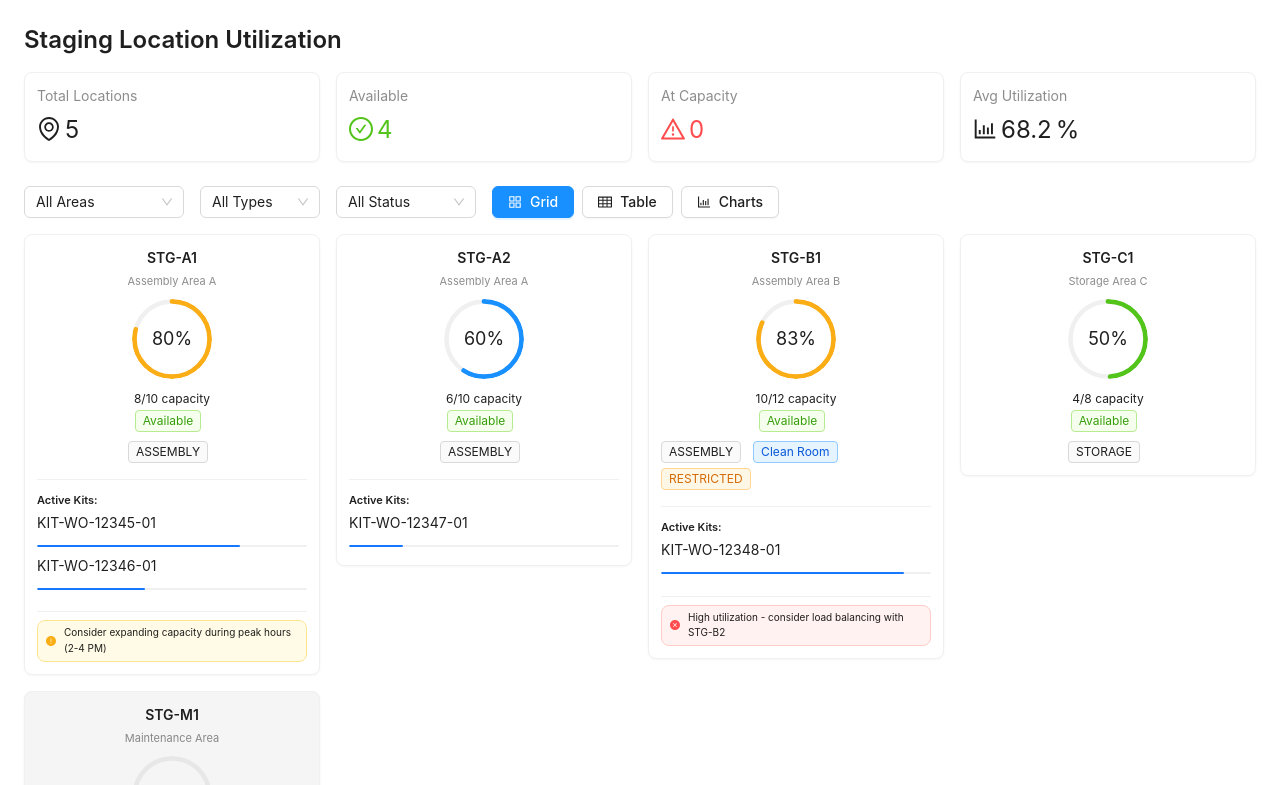
Test: StagingLocationUtilization › Table View › shows utilization with progress bars
The width and height of the screenshot is (1280, 785).
Click the button "Table": click(627, 202) left=582, top=186, right=673, bottom=218
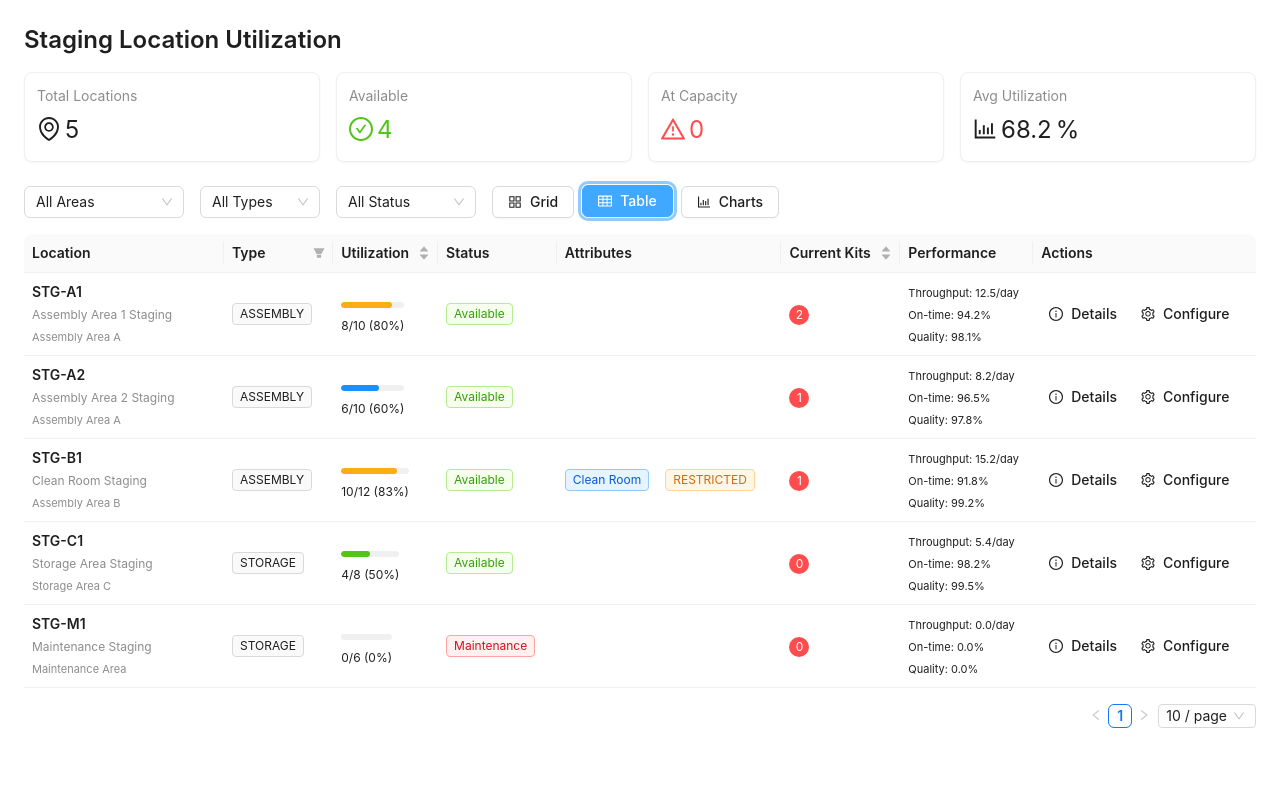
Result: the text "8/10 (80%)" is shown at left=341, top=318, right=404, bottom=333
Result: the text "6/10 (60%)" is shown at left=341, top=401, right=404, bottom=416
Result: the text "10/12 (83%)" is shown at left=341, top=484, right=409, bottom=499
